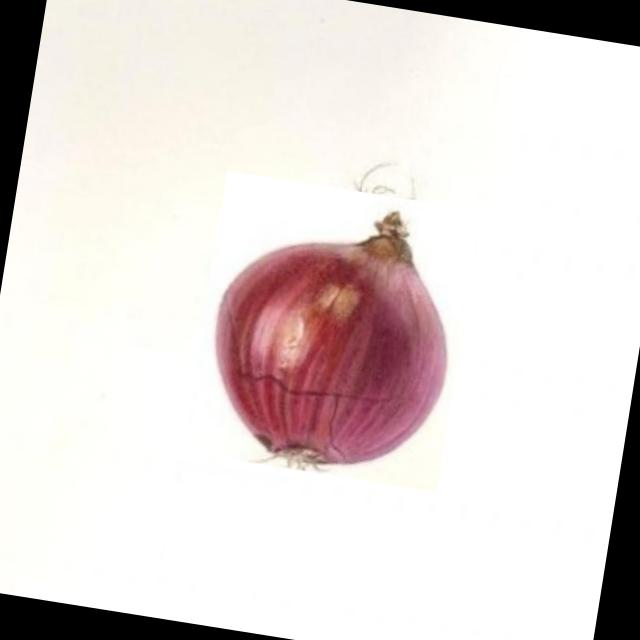Onion: (183, 170, 481, 492)
